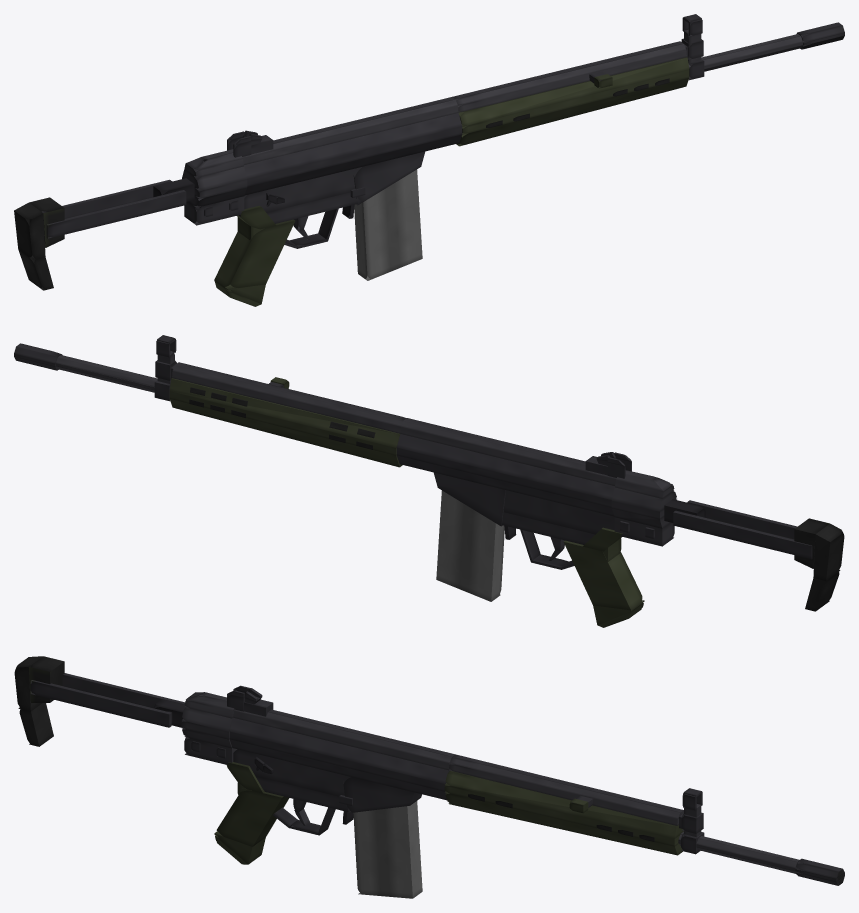
3 views of the same model, one above another, from view 1: azimuth 30°, elevation 25°; view 2: azimuth 150°, elevation 25°; view 3: azimuth 330°, elevation 25° (orthographic).
Parts seen in each view (by area): view 1: ammoModel0, gunModel5, gunModel11, gunModel19, gunModel10, gunModel0, gunModel13, gunModel74, gunModel8, gunModel4, gunModel6, gunModel3 (+14 smaller); view 2: ammoModel0, gunModel5, gunModel19, gunModel11, gunModel10, gunModel0, gunModel13, gunModel73, gunModel8, gunModel4, gunModel3, gunModel6 (+13 smaller); view 3: ammoModel0, gunModel11, gunModel5, gunModel10, gunModel19, gunModel13, gunModel74, gunModel0, gunModel8, gunModel4, gunModel6, gunModel3 (+15 smaller).
Boxes of the visible parts, <box> form: ammoModel0: <box>354,169,422,280</box>; gunModel5: <box>244,113,462,178</box>; gunModel11: <box>458,57,689,126</box>; gunModel19: <box>214,219,295,289</box>; gunModel10: <box>452,41,686,105</box>; gunModel0: <box>239,167,361,216</box>; gunModel13: <box>456,78,689,146</box>; gunModel74: <box>46,190,186,238</box>; gunModel8: <box>203,97,457,161</box>; gunModel4: <box>244,134,461,195</box>; gunModel6: <box>247,126,462,186</box>; gunModel3: <box>353,151,424,205</box>; ammoModel0: <box>436,490,504,601</box>; gunModel5: <box>396,434,614,499</box>; gunModel19: <box>563,540,643,610</box>; gunModel11: <box>169,378,400,447</box>; gunModel10: <box>172,362,406,426</box>; gunModel0: <box>503,490,614,534</box>; gunModel13: <box>169,399,402,467</box>; gunModel73: <box>673,510,812,559</box>; gunModel8: <box>401,418,616,478</box>; gunModel4: <box>397,455,614,516</box>; gunModel3: <box>434,472,505,526</box>; gunModel6: <box>396,447,611,507</box>; ammoModel0: <box>353,801,422,898</box>; gunModel11: <box>445,770,683,838</box>; gunModel5: <box>229,717,449,783</box>; gunModel10: <box>450,754,683,818</box>; gunModel19: <box>215,790,289,846</box>; gunModel13: <box>445,792,682,855</box>; gunModel74: <box>30,680,171,727</box>; gunModel0: <box>233,749,350,796</box>; gunModel8: <box>234,709,454,763</box>; gunModel4: <box>229,739,446,800</box>; gunModel6: <box>229,731,445,791</box>; gunModel3: <box>343,777,421,813</box>.
Bounding box in the file's own units: 38.75 × 8.1 × 1.95.
